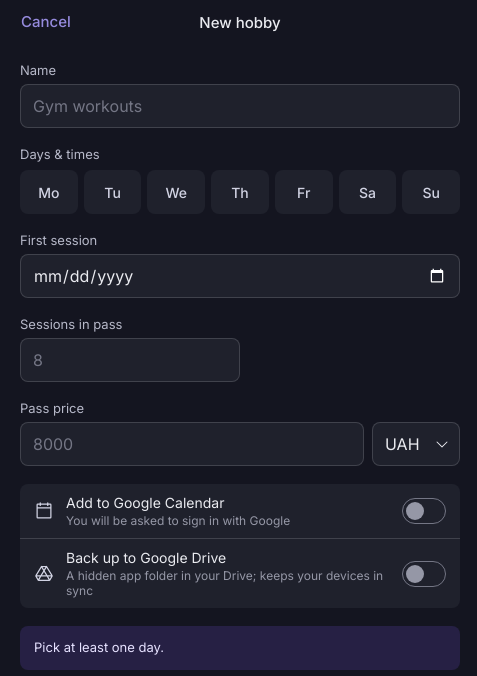
Test: HobbyForm — create › copies the first day’s time and duration to all days
The image size is (477, 676).
Click the button "Mo" at (49, 192), box [20,170,78,214]
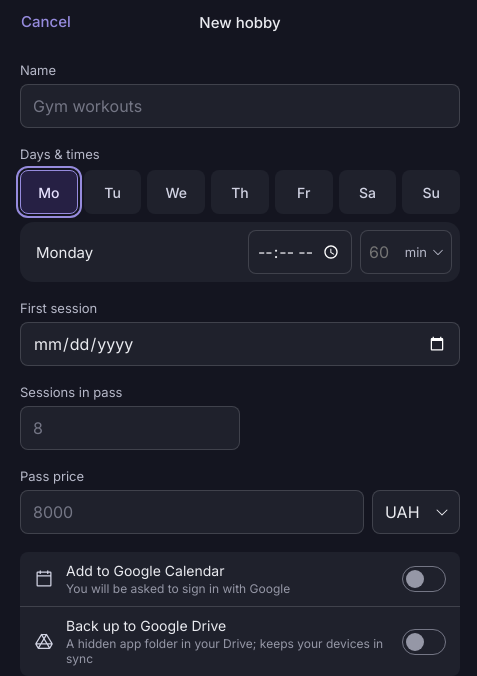
Click the button "Th" at (240, 192), box [211,170,269,214]
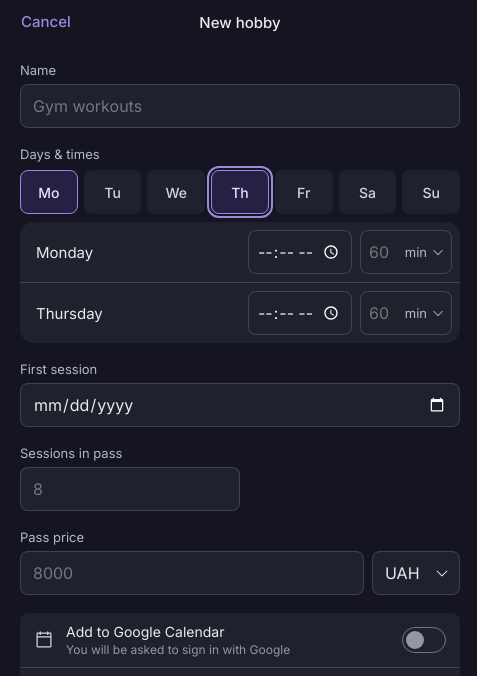
Type "09:30" into the time field named "Monday" at (300, 252), box [248,230,352,274]
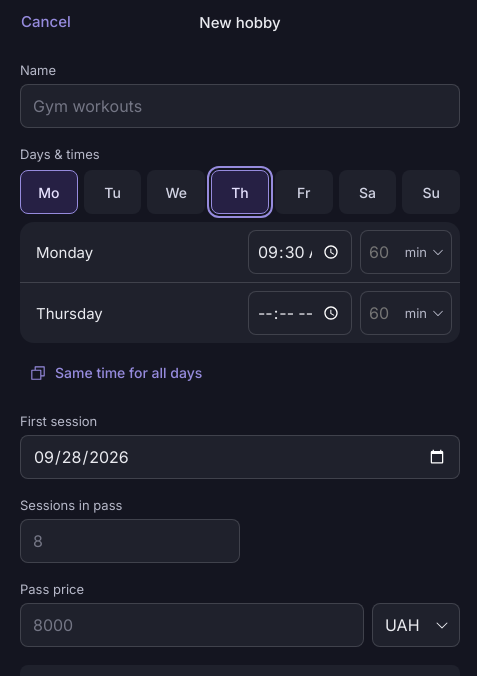
Type "45" into the field named "Monday, min" at (382, 252), box [361,231,403,273]
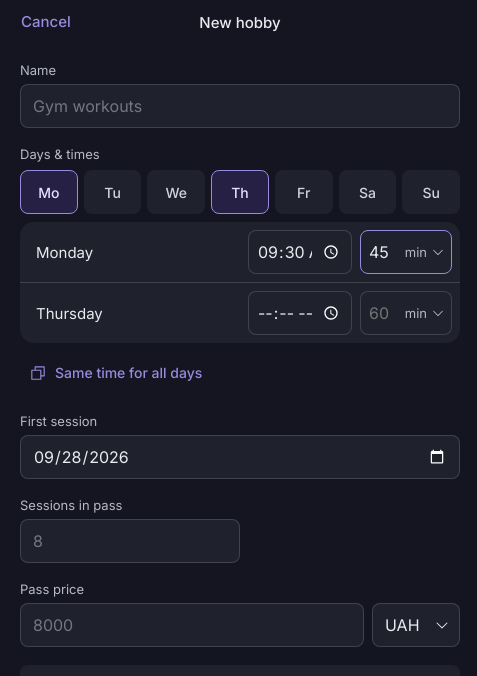
Click the button "Same time for all days" at (116, 373), box [20,351,211,395]
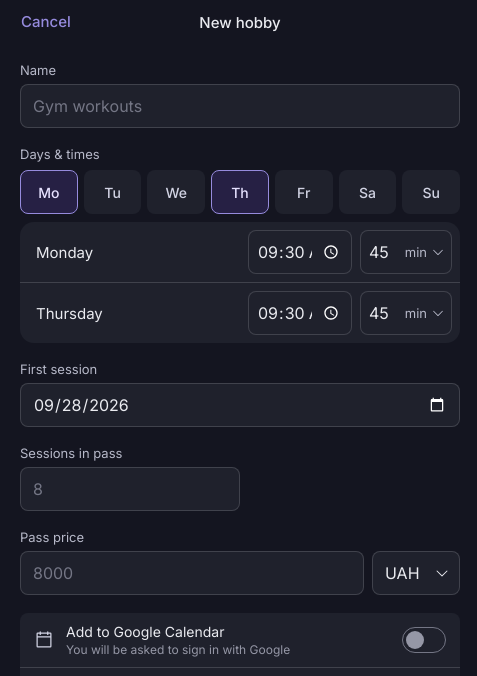
Expected: the time field named "Thursday" holds "09:30", [248,291,352,335]
Expected: the field named "Thursday, min" holds "45", [361,292,403,334]
Expected: the button "Same time for all days" is gone
